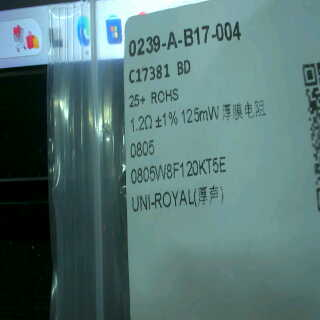1.2R: (129, 111, 157, 162)
